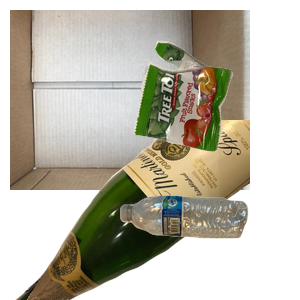cardboard: (10, 10, 250, 190)
glass: (13, 120, 253, 300)
plastic: (118, 193, 300, 300)
trash: (131, 38, 300, 182)
